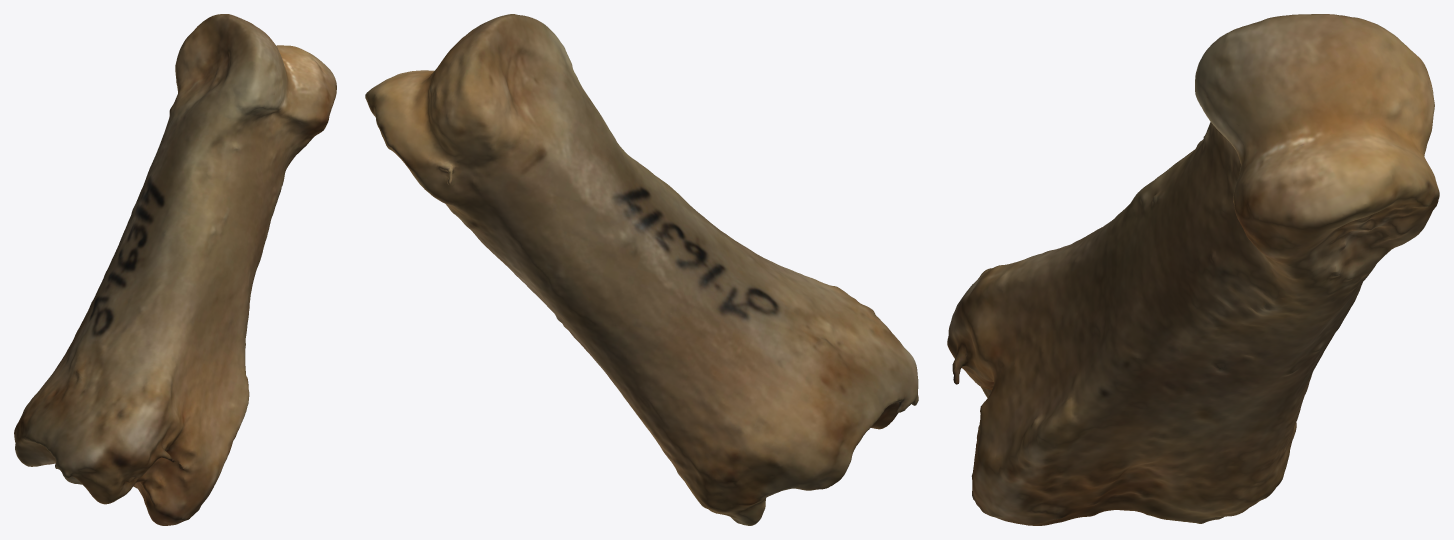
The picture shows the model from 3 angles, left to right: view 1: azimuth 30°, elevation 25°; view 2: azimuth 150°, elevation 25°; view 3: azimuth 270°, elevation 25°; orthographic projection. The views are drawn at different scales.
Visible parts, largest first — view 1: Node; view 2: Node; view 3: Node.
Part boxes in pixels (x1,y1,x2,y2): Node: [14, 14, 336, 525]; Node: [365, 14, 918, 525]; Node: [947, 14, 1439, 525].
Size of the model in its own units: 30.64 by 32.11 by 22.39.
1 material, 1 textured.
